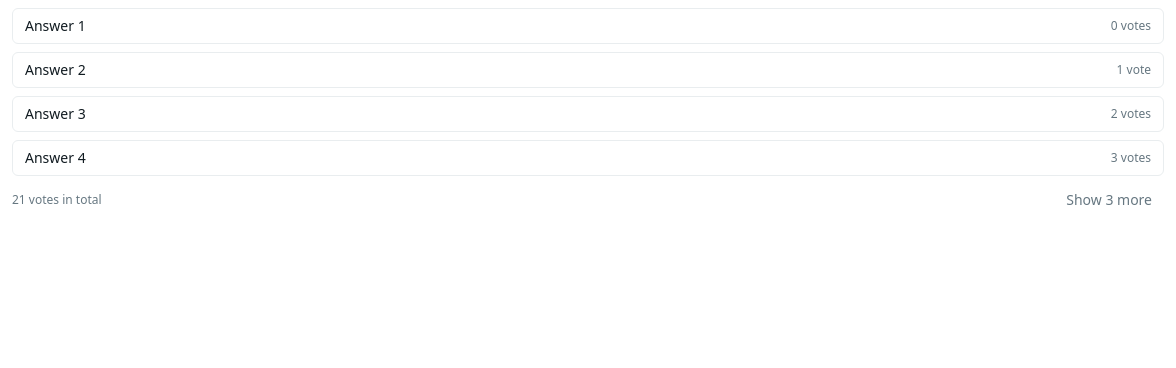
QuackPoll › shows the first 4 answers and expands the rest
The image size is (1176, 368).
Check: the number of radio buttons is 4, box [12,8,1164,44]; [12,52,1164,88]; [12,96,1164,132]; [12,140,1164,176]
Click the button "Show 3 more" at point(1109, 200), box [1054,184,1164,216]
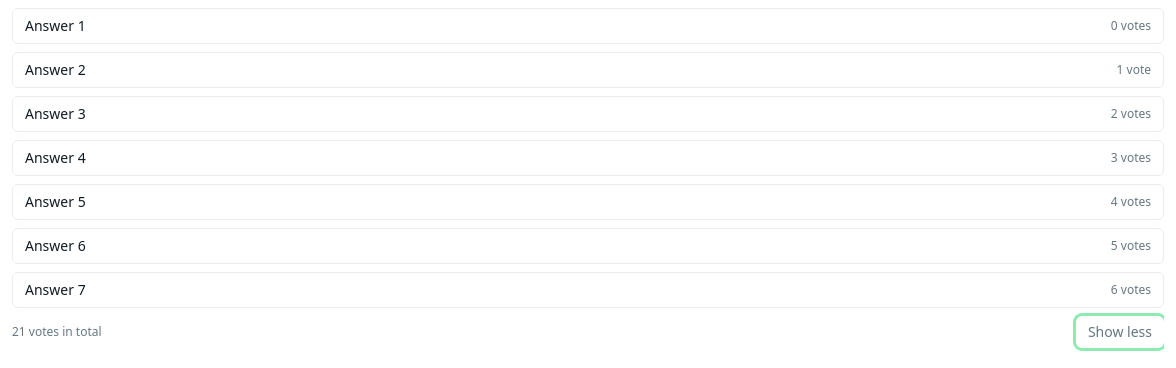
Check: the number of radio buttons is 7
Click the button "Show less" at point(1120, 332), box [1076,316,1164,348]
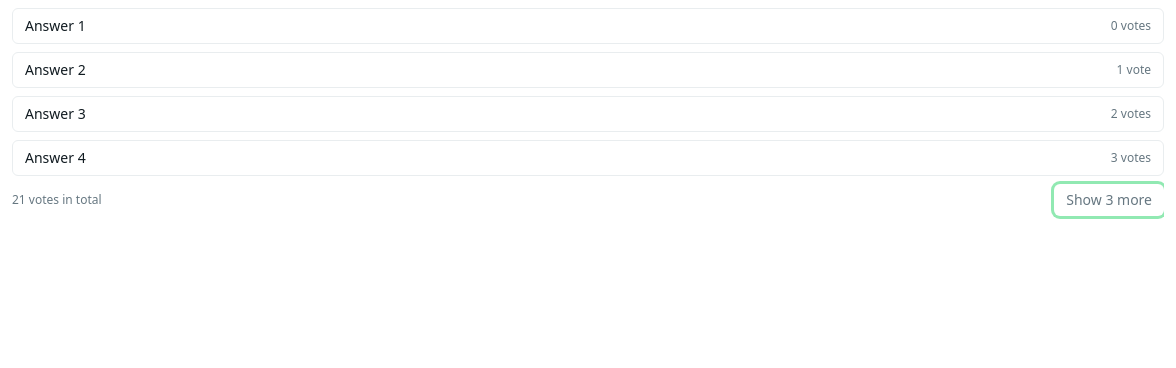
Check: the number of radio buttons is 4, box [12,8,1164,44]; [12,52,1164,88]; [12,96,1164,132]; [12,140,1164,176]
